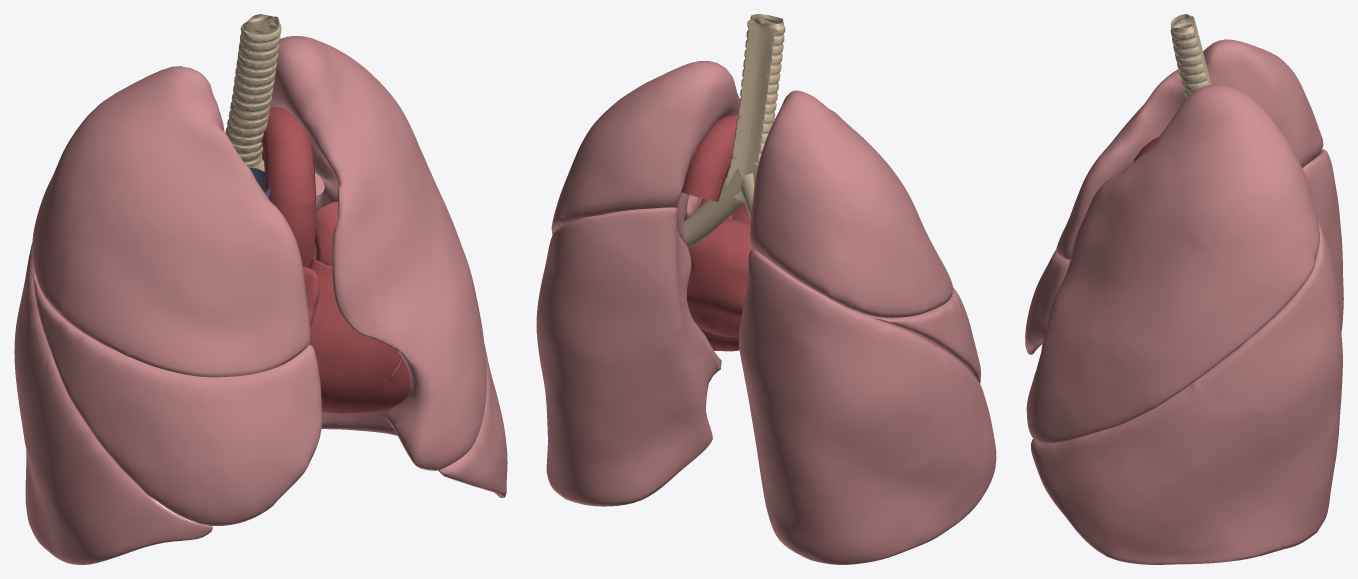
Rendered from chest-surface.glb.
3 views of the same model, side by side, from view 1: azimuth 30°, elevation 25°; view 2: azimuth 150°, elevation 25°; view 3: azimuth 270°, elevation 25° (orthographic). The views are drawn at different scales.
Parts seen in each view (by area): view 1: Superior_lobe_of_right_lung, Superior_lobe_of_left_lung, Middle_lobe_of_right_lung, Inferior_lobe_of_right_lung, Right_ventricle, Trachea, Inferior_lobe_of_left_lung, Aortic_arch, Ascending_aorta, Pulmonary_trunk, Right_atrium; view 2: Inferior_lobe_of_right_lung, Inferior_lobe_of_left_lung, Superior_lobe_of_right_lung, Superior_lobe_of_left_lung, Left_atrium, Trachea, Middle_lobe_of_right_lung, Aortic_arch, Left_main_bronchus; view 3: Superior_lobe_of_left_lung, Inferior_lobe_of_left_lung, Superior_lobe_of_right_lung, Inferior_lobe_of_right_lung, Trachea, Middle_lobe_of_right_lung.
Part boxes in pixels (x1,y1,x2,y2): Superior_lobe_of_right_lung: (32,66,310,377); Superior_lobe_of_left_lung: (270,36,486,470); Middle_lobe_of_right_lung: (33,272,322,525); Inferior_lobe_of_right_lung: (14,243,212,564); Right_ventricle: (309,257,410,413); Trachea: (225,14,281,167); Inferior_lobe_of_left_lung: (315,174,507,497); Aortic_arch: (261,107,316,205); Ascending_aorta: (275,200,317,267); Pulmonary_trunk: (314,202,338,265); Right_atrium: (303,266,319,327); Inferior_lobe_of_right_lung: (739,249,996,564); Inferior_lobe_of_left_lung: (536,207,721,506); Superior_lobe_of_right_lung: (750,90,952,317); Superior_lobe_of_left_lung: (551,61,739,241); Left_atrium: (687,198,751,336); Trachea: (723,14,785,203); Middle_lobe_of_right_lung: (865,287,980,383); Aortic_arch: (681,113,773,201); Left_main_bronchus: (684,168,742,248); Superior_lobe_of_left_lung: (1026,84,1319,443); Inferior_lobe_of_left_lung: (1031,221,1342,564); Superior_lobe_of_right_lung: (1056,39,1323,259); Inferior_lobe_of_right_lung: (1042,149,1343,344); Trachea: (1170,14,1211,98); Middle_lobe_of_right_lung: (1025,250,1069,354).
Bounding box in the file's own units: 2.49 × 2.8 × 1.77.
